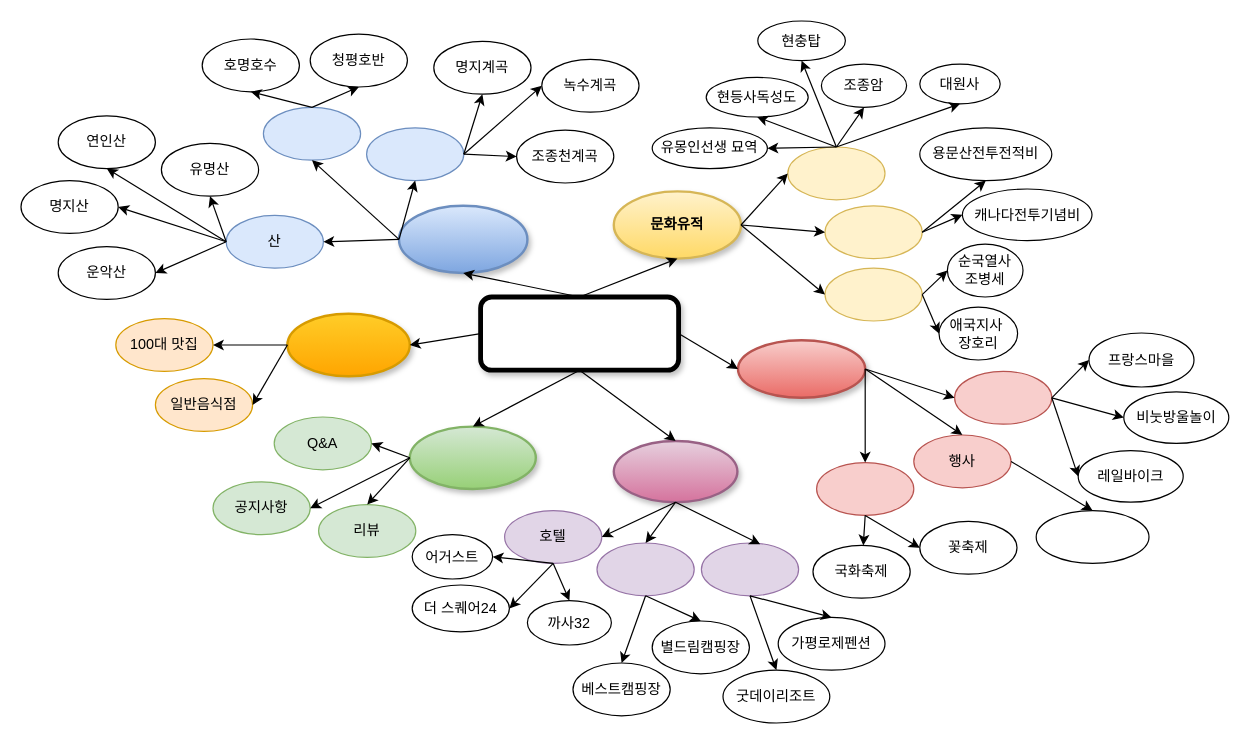
Image size: 1250x744. Some labels were removed from this diagram. The shapes that lost their labels are listed below. From the top down, each one's centre as x and y in pixels, then its label:
the point at 311,133: 호수
the point at 414,154: 계곡
the point at 836,173: 문화재
the point at 463,240: 관광지
the point at 873,232: 기념비
the point at 873,294: 인물
the point at 349,346: 맛집
the point at 580,334: 가평 문화관광
the point at 802,370: 체험
the point at 1002,397: 놀거리
the point at 473,459: 게시판
the point at 676,472: 숙박
the point at 864,488: 축제
the point at 1092,536: 군민의날 행사
the point at 645,569: 야영장
the point at 749,569: 민박
